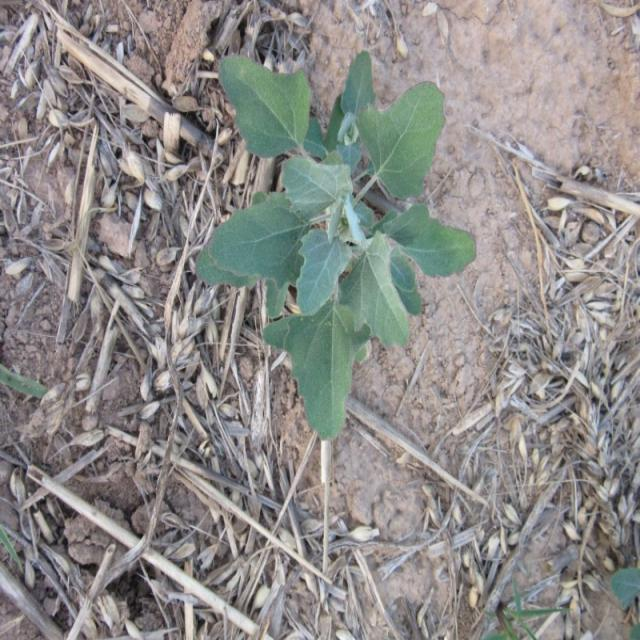ca: (197, 52, 448, 434)
